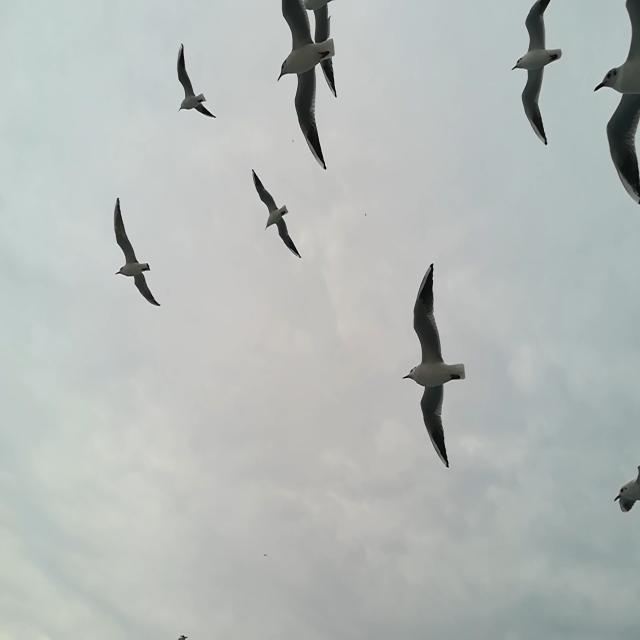bird: (402, 260, 469, 470), (276, 0, 337, 176), (594, 0, 639, 211), (511, 2, 563, 146), (112, 199, 160, 307), (251, 170, 303, 260), (300, 0, 338, 101), (176, 44, 217, 118), (613, 463, 640, 516), (173, 631, 190, 640)
